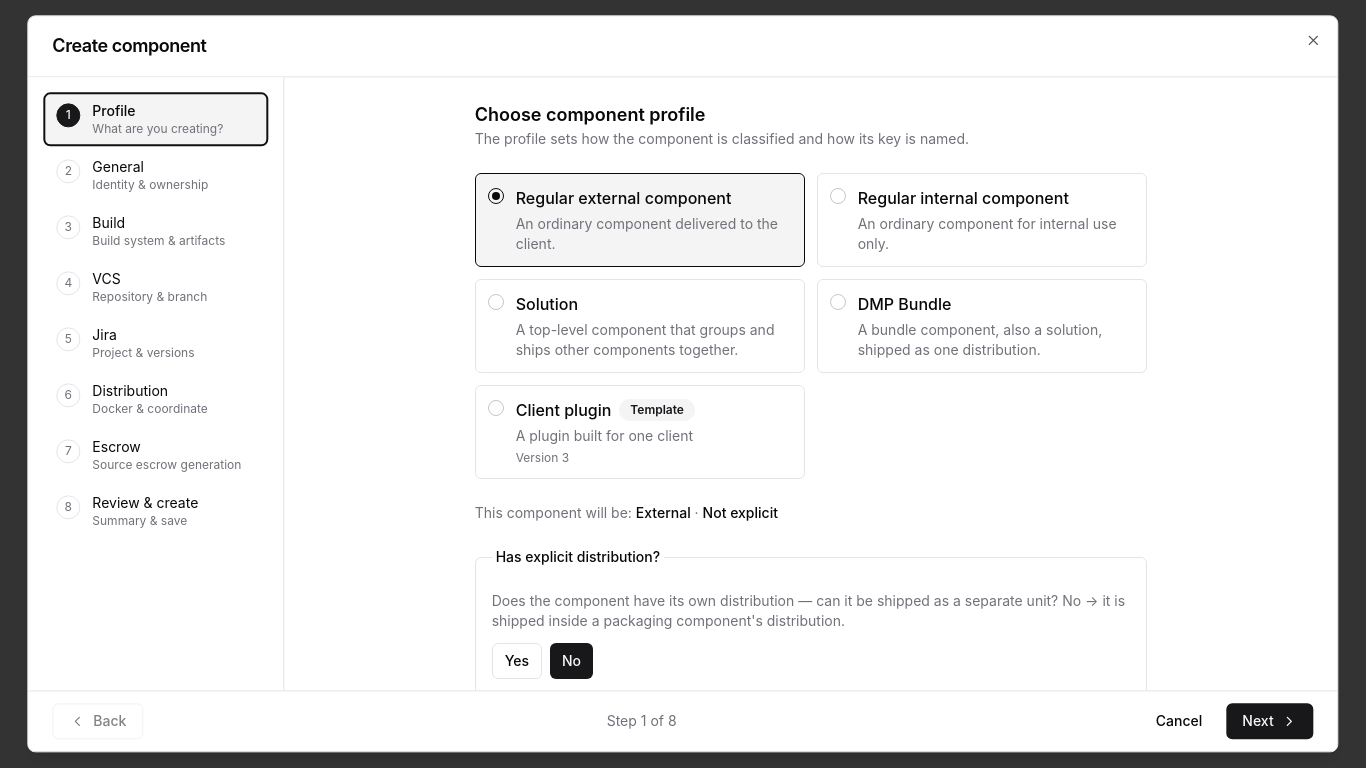
Create component — Parameters › shows an error with Retry when the template cannot be loaded
The image size is (1366, 768).
Step 1. Click the radio button labelled "Client plugin" → (640, 432), box x1=475 y1=385 x2=805 y2=479
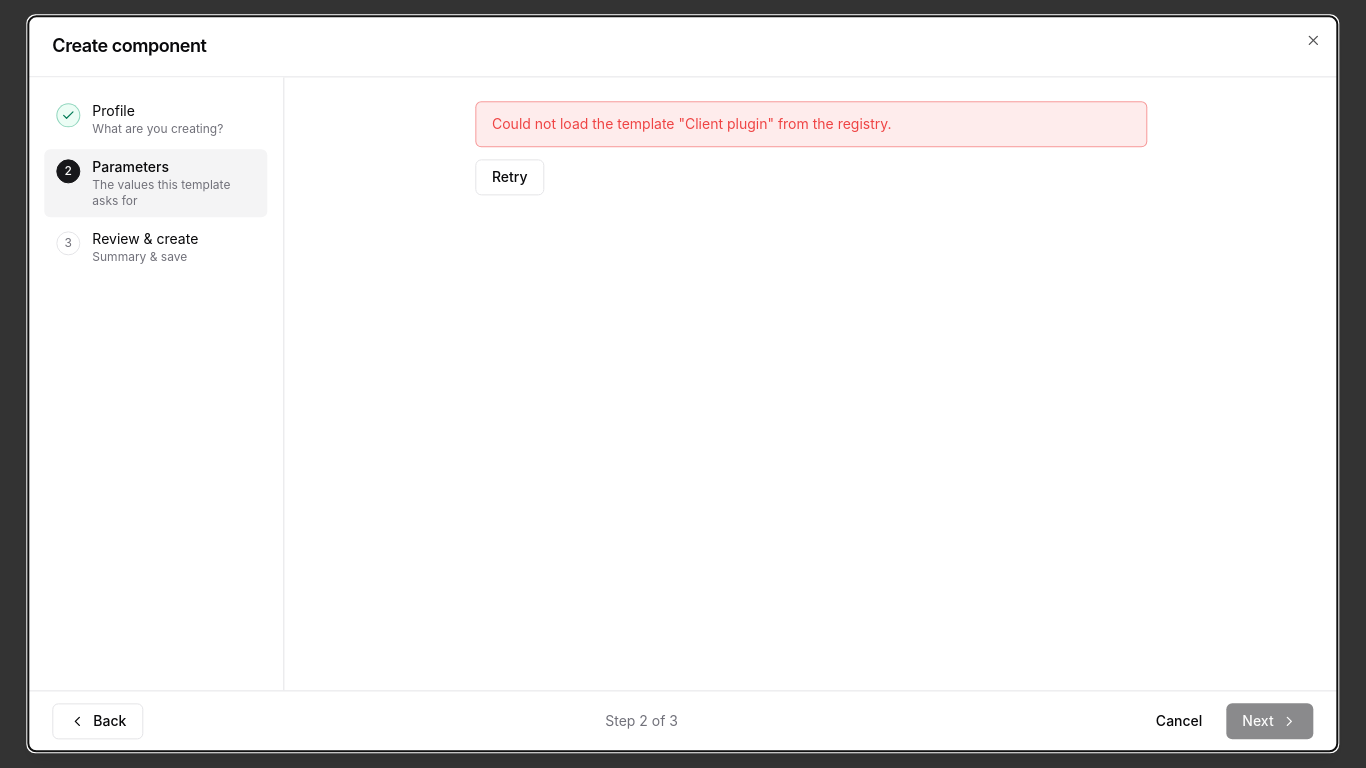
Result: the button "Retry" is shown at x1=475 y1=159 x2=545 y2=195
Result: the button "Next" is disabled at x1=1226 y1=704 x2=1314 y2=740
